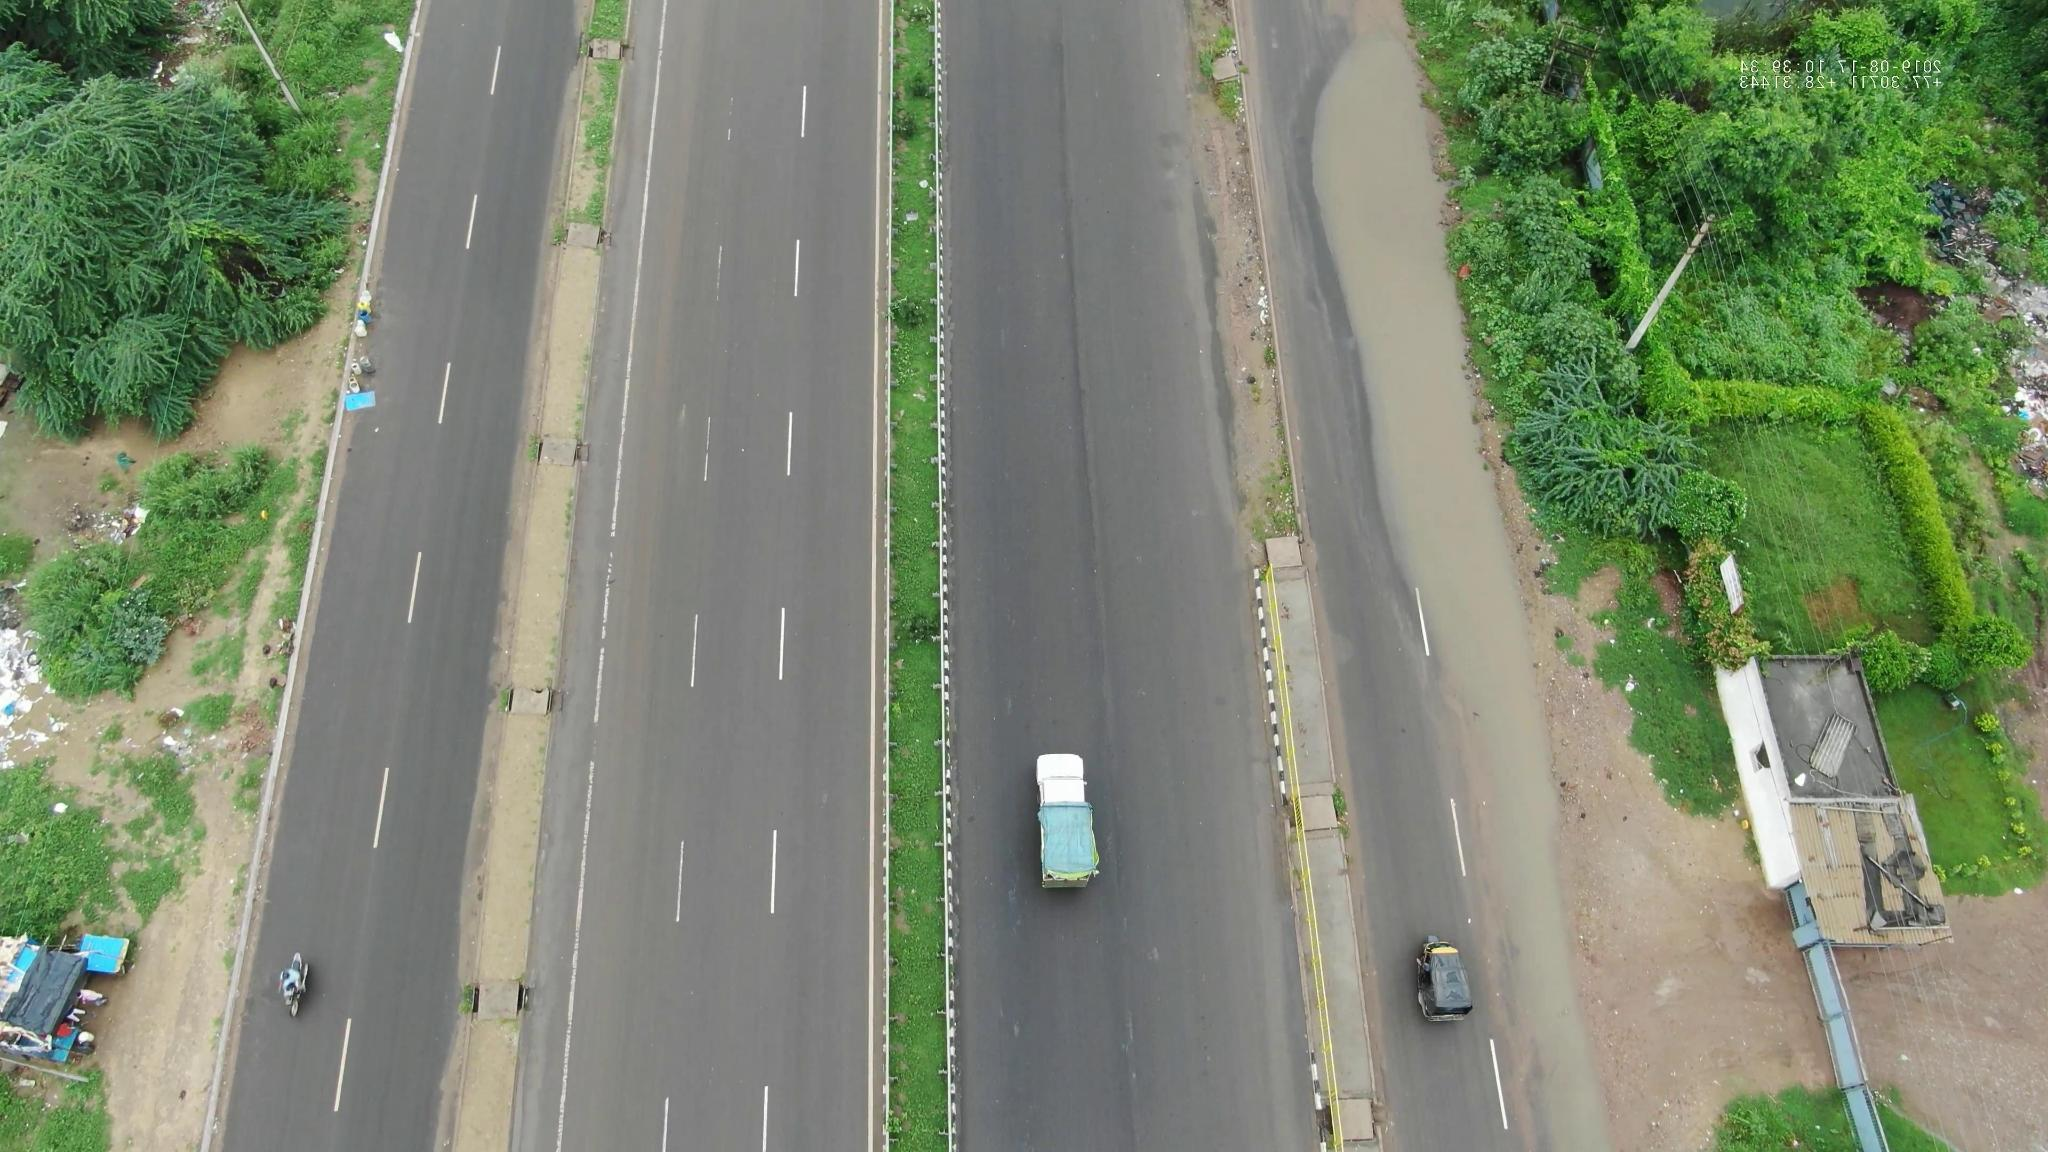Waterlogging: (1301, 32, 1512, 543), (1388, 523, 1573, 836), (1471, 848, 1623, 1124)
